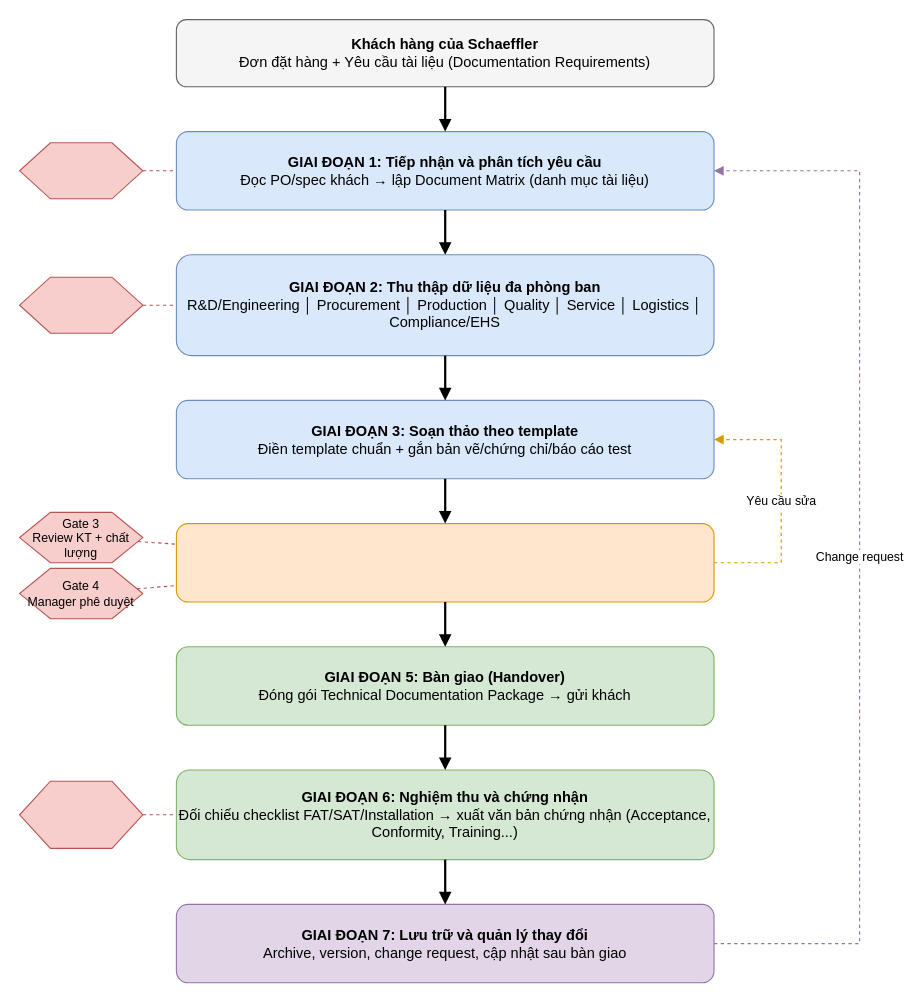
The diagram is 923 pixels wide and 1002 high, and some of its shapes have lost their labels. Here are the shapes that lost their labels. From the top down, the centre of each, then its label:
pixel 80 170: Gate 1 Xác nhận Matrix
pixel 80 304: Gate 2 Dữ liệu đủ, đúng bản
pixel 444 562: GIAI ĐOẠN 4: Rà soát và phê duyệt Peer review → Quality check → Manager approval
pixel 80 814: Gate 5 Đối chiếu checklist rồi mới phát hành chứng nhận
